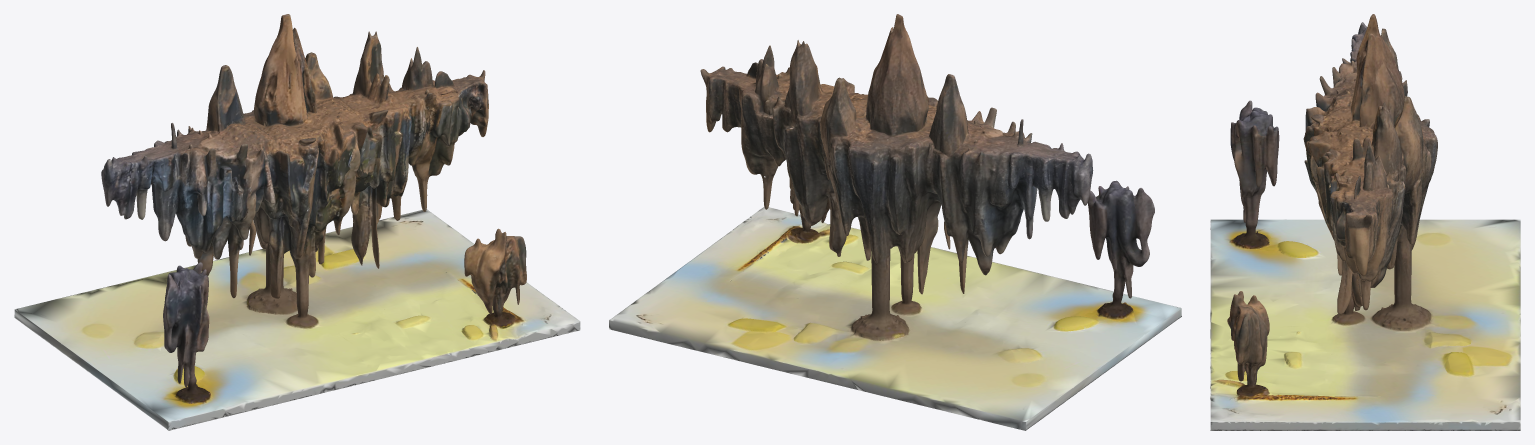
File: Daobay1-v2.glb
3 renders of one model, left to right at view 1: azimuth 30°, elevation 25°; view 2: azimuth 150°, elevation 25°; view 3: azimuth 270°, elevation 25°, orthographic.
Parts seen in each view (by area): view 1: tripo_node_8b634be1-6f90-472a-a3d8-c8aa232a2962; view 2: tripo_node_8b634be1-6f90-472a-a3d8-c8aa232a2962; view 3: tripo_node_8b634be1-6f90-472a-a3d8-c8aa232a2962.
Part boxes in pixels (<box>): tripo_node_8b634be1-6f90-472a-a3d8-c8aa232a2962: <box>14,14,580,430</box>; tripo_node_8b634be1-6f90-472a-a3d8-c8aa232a2962: <box>609,14,1181,430</box>; tripo_node_8b634be1-6f90-472a-a3d8-c8aa232a2962: <box>1210,14,1520,430</box>.
Size of the model in its own units: 1 by 0.7166 by 0.6478.
1 material, 1 textured.
